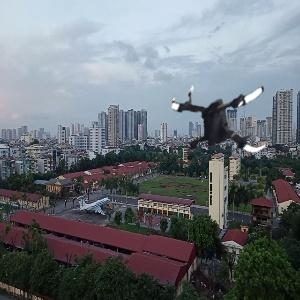drone: (160, 63, 276, 179)
